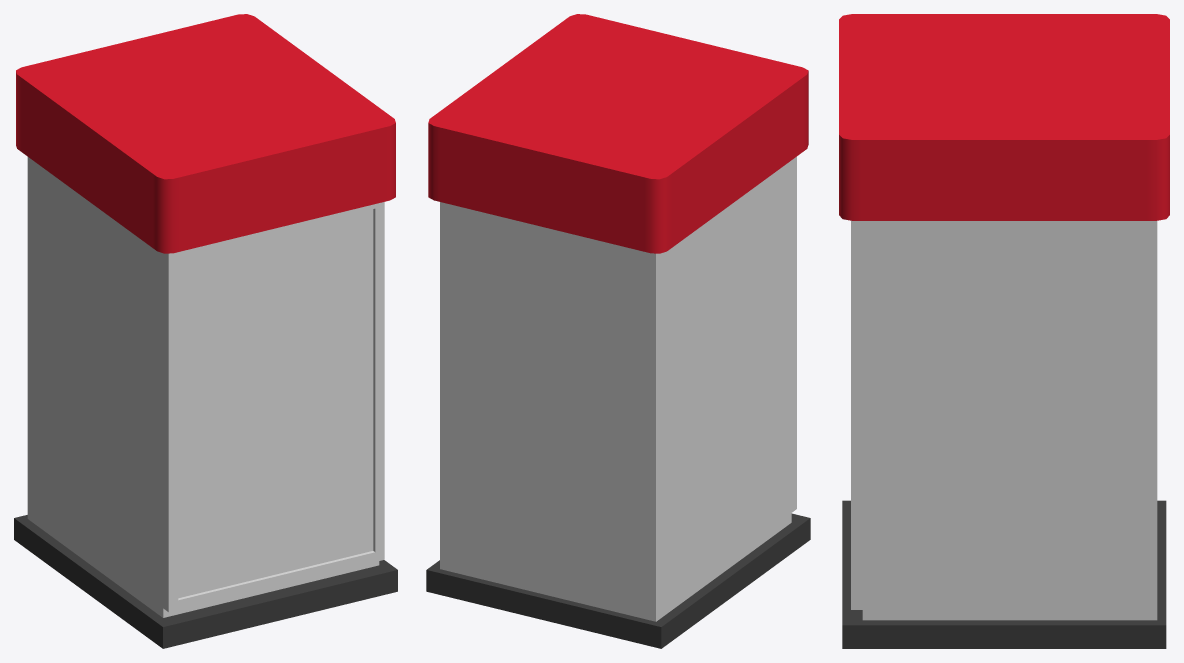
The model's file is fridge.fbx.
The picture shows the model from 3 angles, left to right: view 1: azimuth 30°, elevation 25°; view 2: azimuth 150°, elevation 25°; view 3: azimuth 270°, elevation 25°; orthographic projection. The views are drawn at different scales.
Parts seen in each view (by area): view 1: Fridge, Fridge_glass, Fridge_door; view 2: Fridge, Fridge_door; view 3: Fridge, Fridge_door.
Part boxes in pixels (x1,y1,x2,y2): Fridge: (14, 14, 397, 648); Fridge_glass: (178, 209, 373, 598); Fridge_door: (163, 202, 384, 612); Fridge: (426, 14, 810, 648); Fridge_door: (791, 156, 796, 512); Fridge: (839, 14, 1169, 648); Fridge_door: (851, 220, 862, 609).
Size of the model in its own units: 0.5699 by 1.08 by 0.6327.
